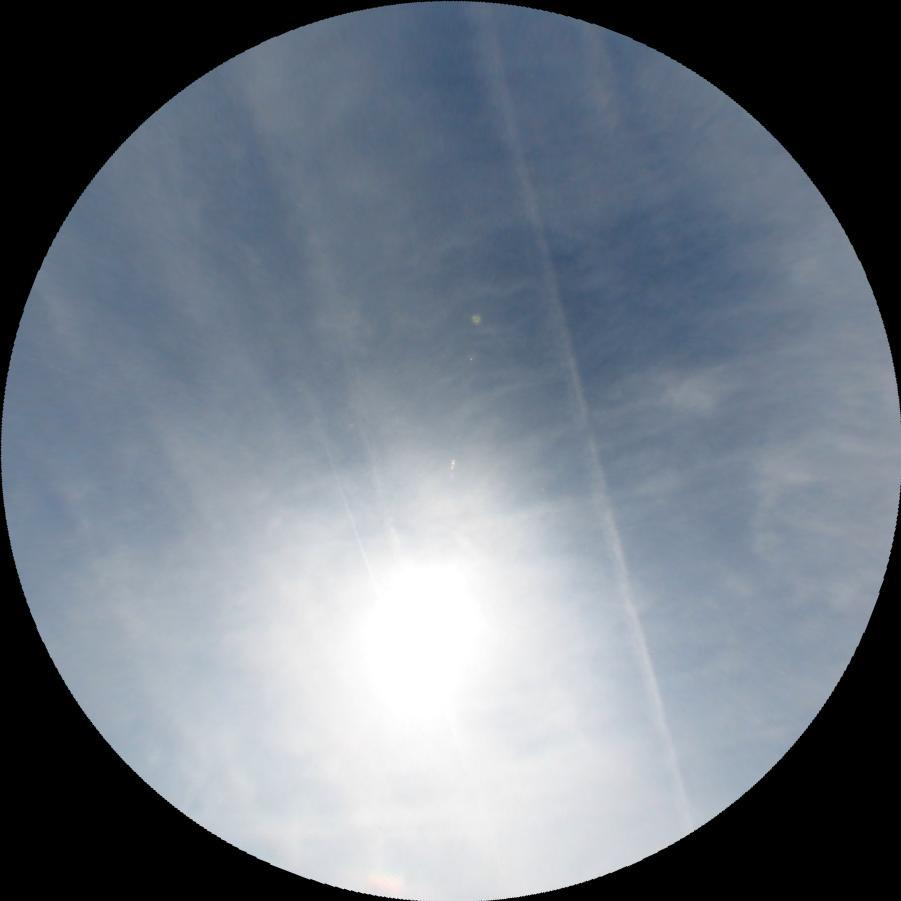contrail old: (466, 0, 695, 835)
contrail young: (317, 432, 381, 595)
sun: (337, 543, 499, 726)
